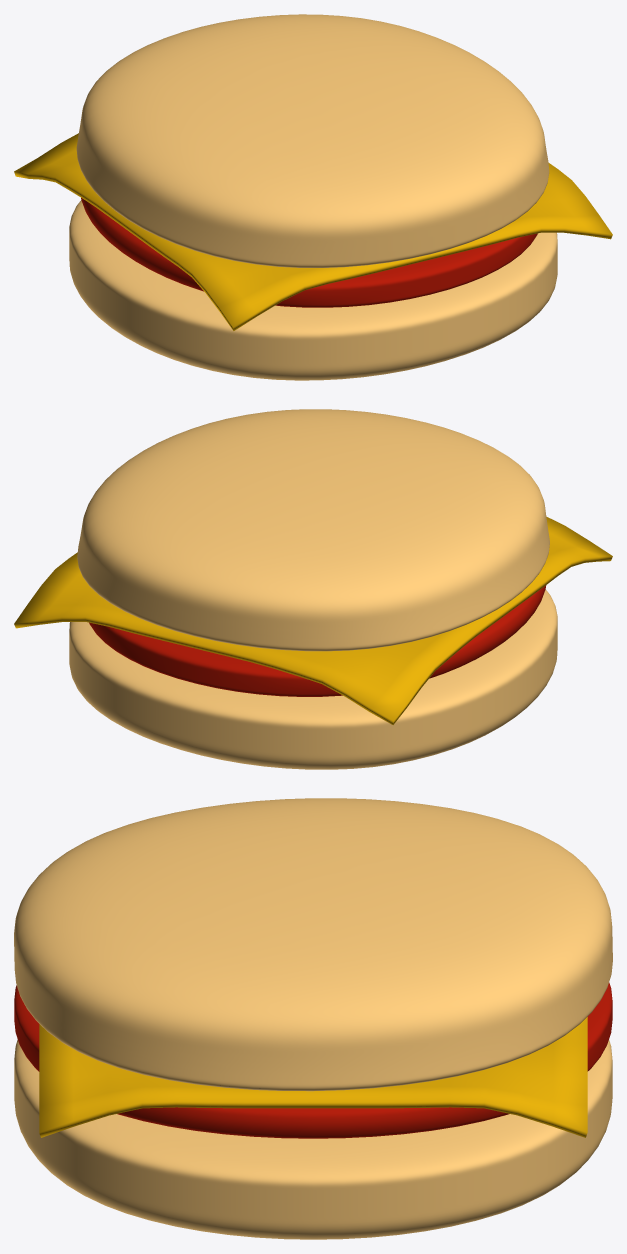
File: hamburger.glb
3 views of the same model, one above another, from view 1: azimuth 30°, elevation 25°; view 2: azimuth 150°, elevation 25°; view 3: azimuth 270°, elevation 25° (orthographic). The views are drawn at different scales.
Parts seen in each view (by area): view 1: Cube.002, Cube, Plane, Cube.001; view 2: Cube.002, Cube, Plane, Cube.001; view 3: Cube.002, Cube, Plane, Cube.001.
Part boxes in pixels (<box>): Cube.002: <box>76,14,549,267</box>; Cube: <box>69,200,557,380</box>; Plane: <box>14,133,612,330</box>; Cube.001: <box>81,198,537,307</box>; Cube.002: <box>77,409,549,651</box>; Cube: <box>69,589,557,769</box>; Plane: <box>14,516,612,724</box>; Cube.001: <box>89,585,546,696</box>; Cube.002: <box>14,798,612,1091</box>; Cube: <box>14,1039,612,1239</box>; Plane: <box>39,1017,587,1137</box>; Cube.001: <box>14,982,612,1138</box>.
Size of the model in its own units: 7.03 by 3.42 by 7.03.
